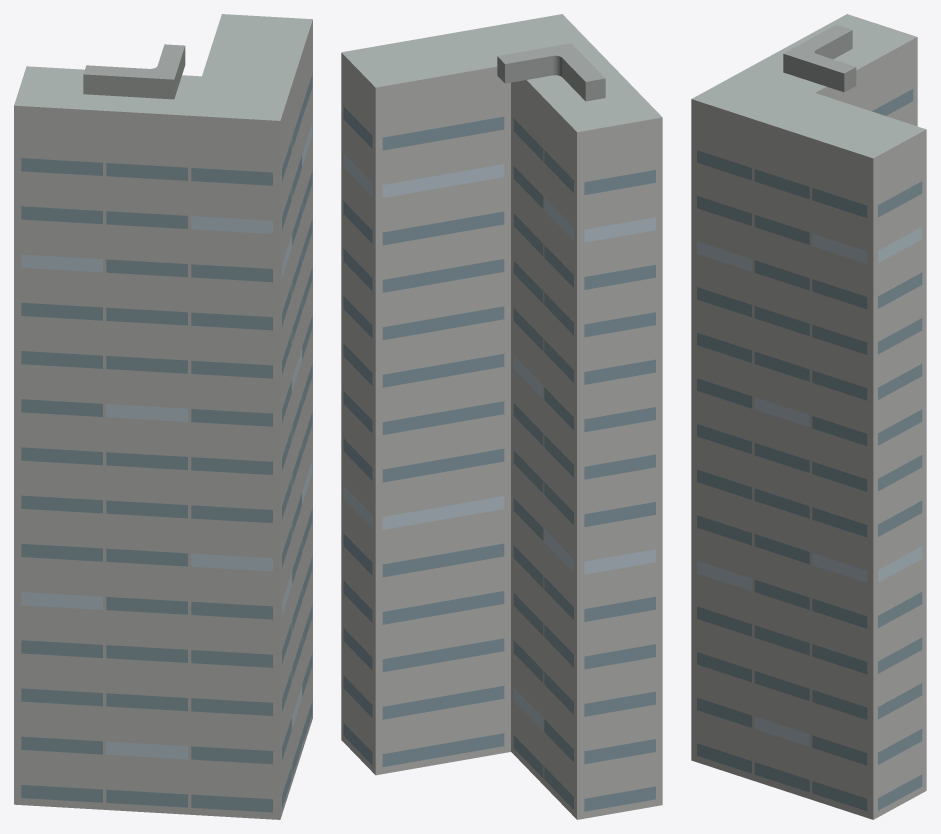
Rendered from fallback-godeok-raemian-hillstate-111.glb.
The picture shows the model from 3 angles, left to right: view 1: azimuth 30°, elevation 25°; view 2: azimuth 150°, elevation 25°; view 3: azimuth 270°, elevation 25°; orthographic projection. The views are drawn at different scales.
Visible parts, largest first — view 1: fallback-godeok-raemian-hillstate-111; view 2: fallback-godeok-raemian-hillstate-111; view 3: fallback-godeok-raemian-hillstate-111.
Boxes of the visible parts, x1,y1,x2,y2 form: fallback-godeok-raemian-hillstate-111: (14,14,312,819); fallback-godeok-raemian-hillstate-111: (341,14,662,819); fallback-godeok-raemian-hillstate-111: (691,14,926,819).
Size of the model in its own units: 39.62 by 87 by 27.25.
